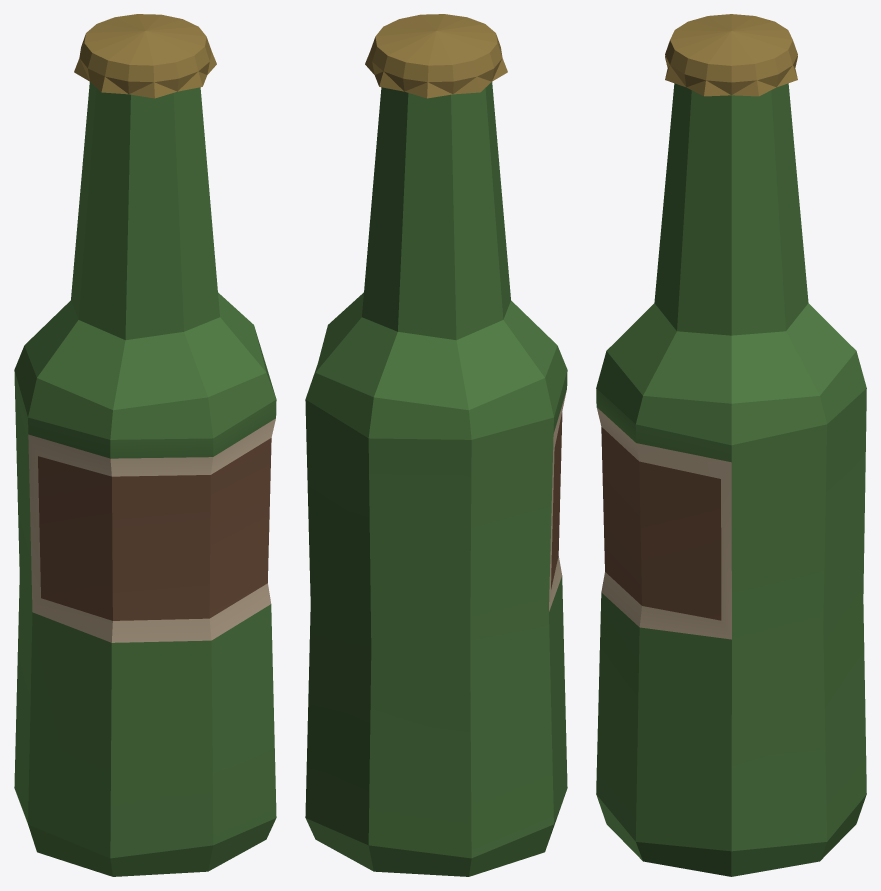
File: SM_Prop_LargeSign_Bottle_01.glb
The picture shows the model from 3 angles, left to right: view 1: azimuth 30°, elevation 25°; view 2: azimuth 150°, elevation 25°; view 3: azimuth 270°, elevation 25°; orthographic projection.
Parts seen in each view (by area): view 1: SM_Prop_LargeSign_Bottle_01; view 2: SM_Prop_LargeSign_Bottle_01; view 3: SM_Prop_LargeSign_Bottle_01.
Boxes of the visible parts, x1,y1,x2,y2 form: SM_Prop_LargeSign_Bottle_01: [14, 14, 276, 876]; SM_Prop_LargeSign_Bottle_01: [305, 14, 567, 876]; SM_Prop_LargeSign_Bottle_01: [596, 14, 866, 876].
Size of the model in its own units: 0.018 by 0.0582 by 0.018.
Materials: 1 (1 with a texture image).
